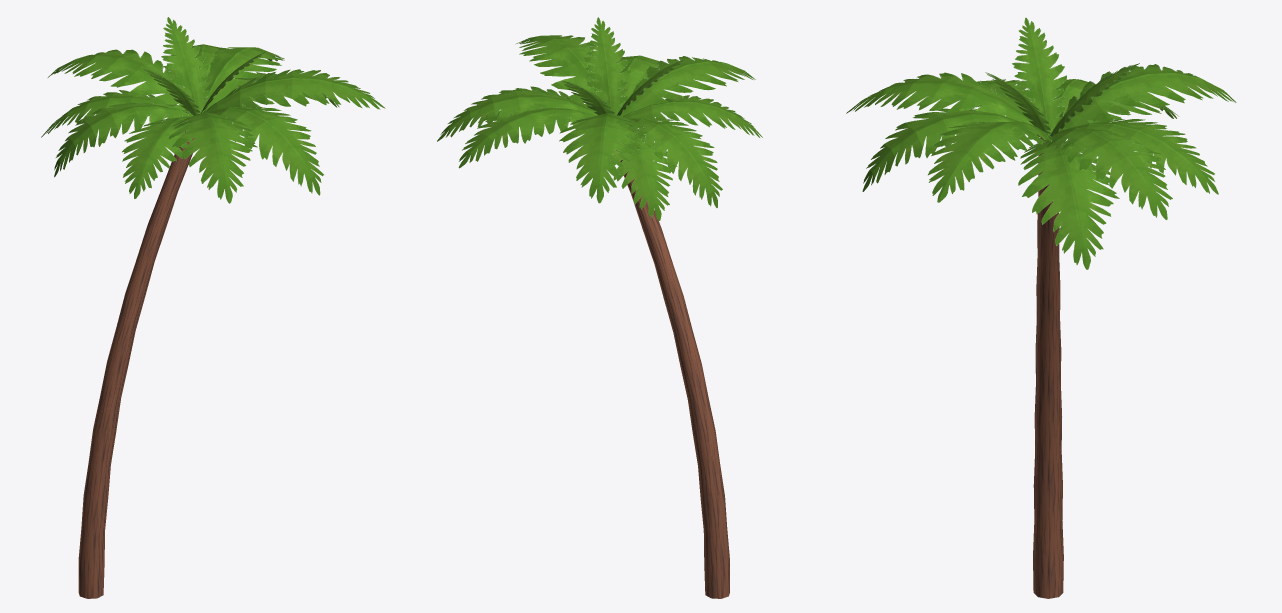
The model's file is palm_2.gltf.
The picture shows the model from 3 angles, left to right: view 1: azimuth 30°, elevation 25°; view 2: azimuth 150°, elevation 25°; view 3: azimuth 270°, elevation 25°; orthographic projection. The views are drawn at different scales.
Visible parts, largest first — view 1: palm_2; view 2: palm_2; view 3: palm_2.
Boxes of the visible parts, left/top/right/bottom form: palm_2: left=41, top=17, right=385, bottom=598; palm_2: left=437, top=17, right=762, bottom=598; palm_2: left=846, top=17, right=1236, bottom=598.
Bounding box in the file's own units: 5.68 × 9.43 × 6.31.
Materials: 2 (2 with a texture image).
